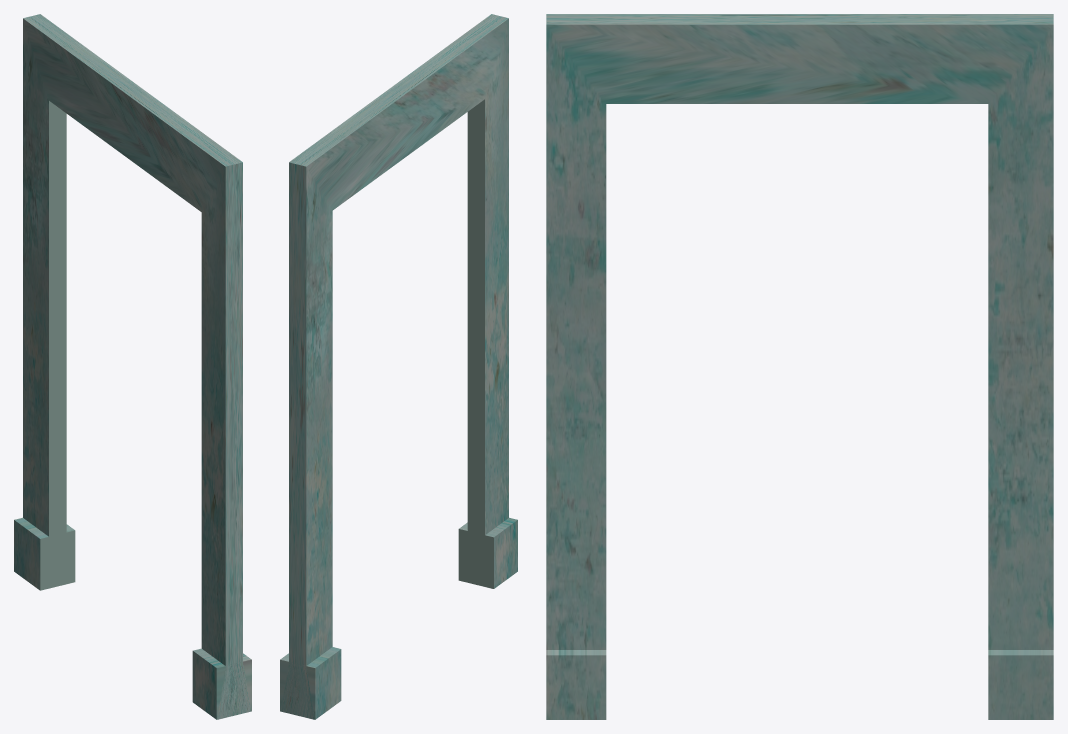
File: Door_Wall.glb
3 views of the same model, side by side, from view 1: azimuth 30°, elevation 25°; view 2: azimuth 150°, elevation 25°; view 3: azimuth 270°, elevation 25° (orthographic). The views are drawn at different scales.
Visible parts, largest first — view 1: Door Wall; view 2: Door Wall; view 3: Door Wall.
Boxes of the visible parts, x1=… form: Door Wall: x1=14, y1=14, x2=251, y2=719; Door Wall: x1=280, y1=14, x2=517, y2=719; Door Wall: x1=546, y1=14, x2=1053, y2=719.
Size of the model in its own units: 0.2 by 3 by 2.
1 material, 1 textured.
